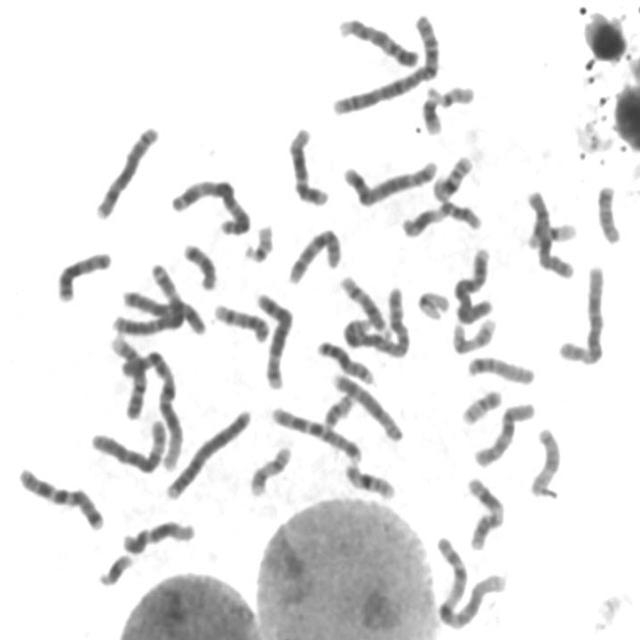A1: (116, 342, 188, 472), (432, 529, 509, 631)
A2: (327, 7, 444, 117), (339, 284, 413, 359)
A3: (108, 256, 186, 336), (166, 172, 254, 238)
B4: (162, 402, 255, 502), (449, 240, 497, 326)
B5: (339, 154, 441, 208), (250, 286, 296, 392)
C10: (469, 396, 538, 470), (284, 222, 344, 286)
C11: (398, 194, 486, 238), (462, 471, 508, 551)
C12: (284, 120, 332, 208), (118, 514, 199, 556)
C6: (554, 258, 609, 366), (86, 412, 171, 477)
C7: (13, 460, 108, 532), (267, 401, 365, 464)
C8: (90, 118, 162, 222), (328, 366, 406, 444)
C9: (334, 10, 422, 70), (105, 328, 149, 422)
D13: (52, 244, 116, 304), (314, 334, 378, 386)
D14: (336, 268, 392, 336), (210, 296, 274, 344)
D15: (526, 421, 564, 498), (463, 349, 538, 386)
E16: (428, 148, 477, 204), (340, 456, 399, 502)
E17: (245, 439, 295, 498), (448, 312, 500, 356)
E18: (179, 236, 220, 292), (593, 178, 625, 245)
F19: (523, 216, 580, 250), (412, 284, 452, 322)
F20: (457, 384, 505, 426), (318, 388, 358, 430)
G21: (94, 547, 136, 589), (418, 80, 446, 137)
G22: (239, 218, 276, 264), (434, 78, 478, 110)
X: (118, 284, 209, 336)
